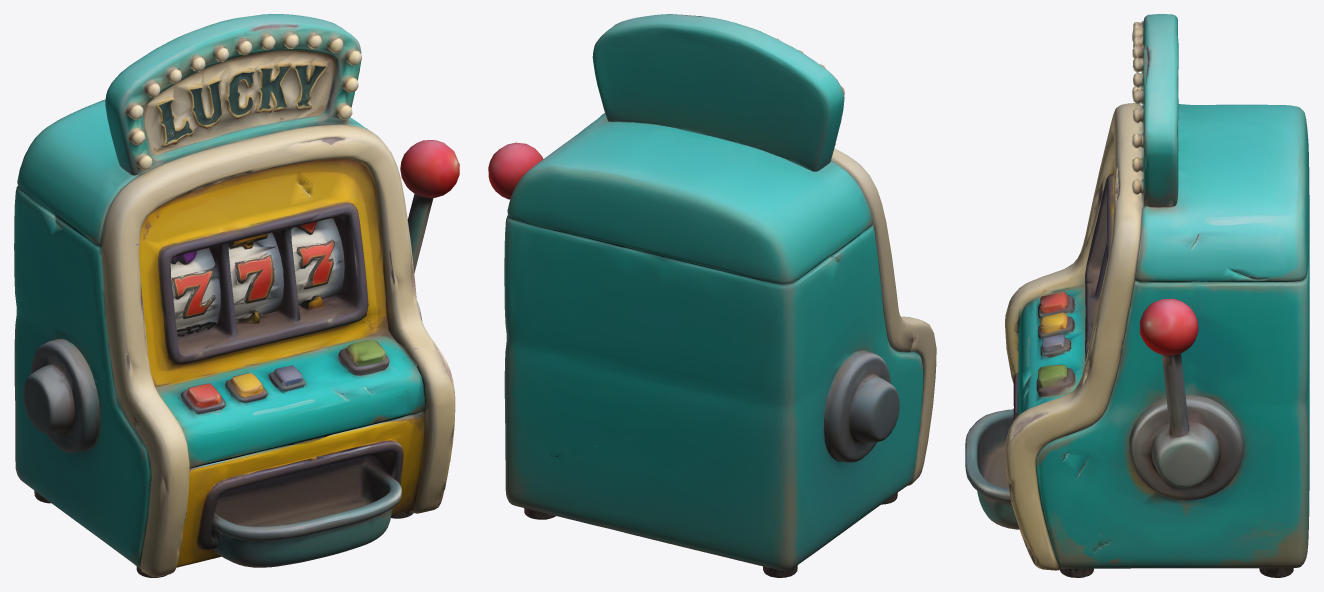
Rendered from slot machine 3d model.glb.
The picture shows the model from 3 angles, left to right: view 1: azimuth 30°, elevation 25°; view 2: azimuth 150°, elevation 25°; view 3: azimuth 270°, elevation 25°; orthographic projection. The views are drawn at different scales.
Visible parts, largest first — view 1: tripo_part_0, tripo_part_4, tripo_part_1, tripo_part_6, tripo_part_2, tripo_part_5, tripo_part_8, tripo_part_3, tripo_part_7, tripo_part_9; view 2: tripo_part_0, tripo_part_1, tripo_part_5, tripo_part_3; view 3: tripo_part_0, tripo_part_3, tripo_part_1, tripo_part_6, tripo_part_2, tripo_part_4.
Boxes of the visible parts, <box> form: tripo_part_0: <box>14,99,455,577</box>; tripo_part_4: <box>139,159,391,387</box>; tripo_part_1: <box>105,14,361,175</box>; tripo_part_6: <box>155,336,425,468</box>; tripo_part_2: <box>196,440,403,567</box>; tripo_part_5: <box>23,339,100,452</box>; tripo_part_8: <box>291,218,344,309</box>; tripo_part_3: <box>400,140,459,320</box>; tripo_part_7: <box>170,248,220,336</box>; tripo_part_9: <box>230,246,283,323</box>; tripo_part_0: <box>504,113,936,577</box>; tripo_part_1: <box>592,14,844,171</box>; tripo_part_5: <box>823,350,899,462</box>; tripo_part_3: <box>488,142,543,199</box>; tripo_part_0: <box>1005,103,1309,577</box>; tripo_part_3: <box>1129,298,1243,500</box>; tripo_part_1: <box>1132,14,1178,210</box>; tripo_part_6: <box>1012,285,1085,415</box>; tripo_part_2: <box>965,373,1019,529</box>; tripo_part_4: <box>1085,159,1114,361</box>.
Bounding box in the file's own units: 0.8674 × 0.9797 × 0.6435.
Materials: 11 (11 with a texture image).
